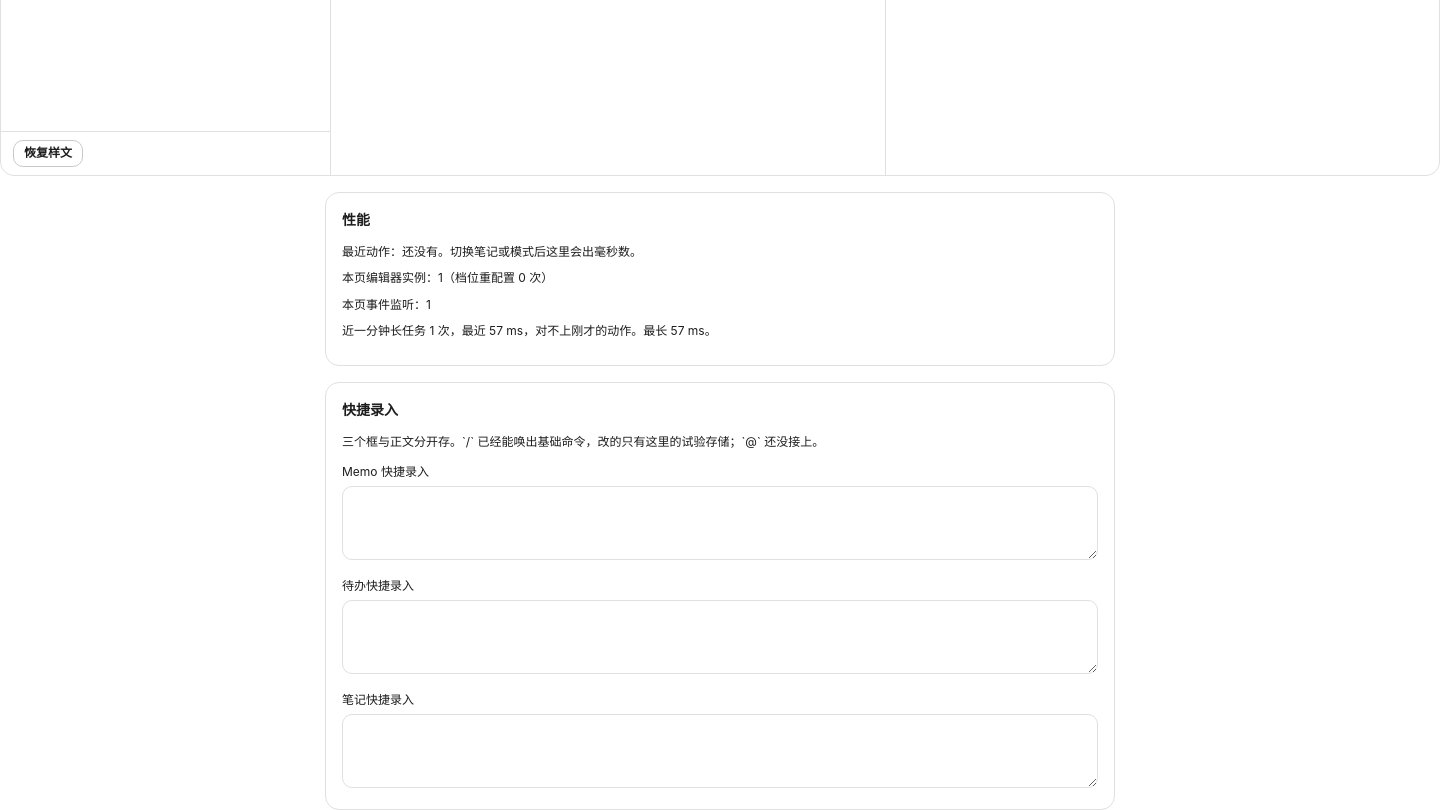
Test case: 编辑试验页 › 快捷框的 `/` 命令只改试验存储，不碰正式笔记、不发布
(page scrolled)
Type "/" into the text box labelled "Memo 快捷录入".
click(720, 523); type("/")  # box [342, 486, 1098, 560]
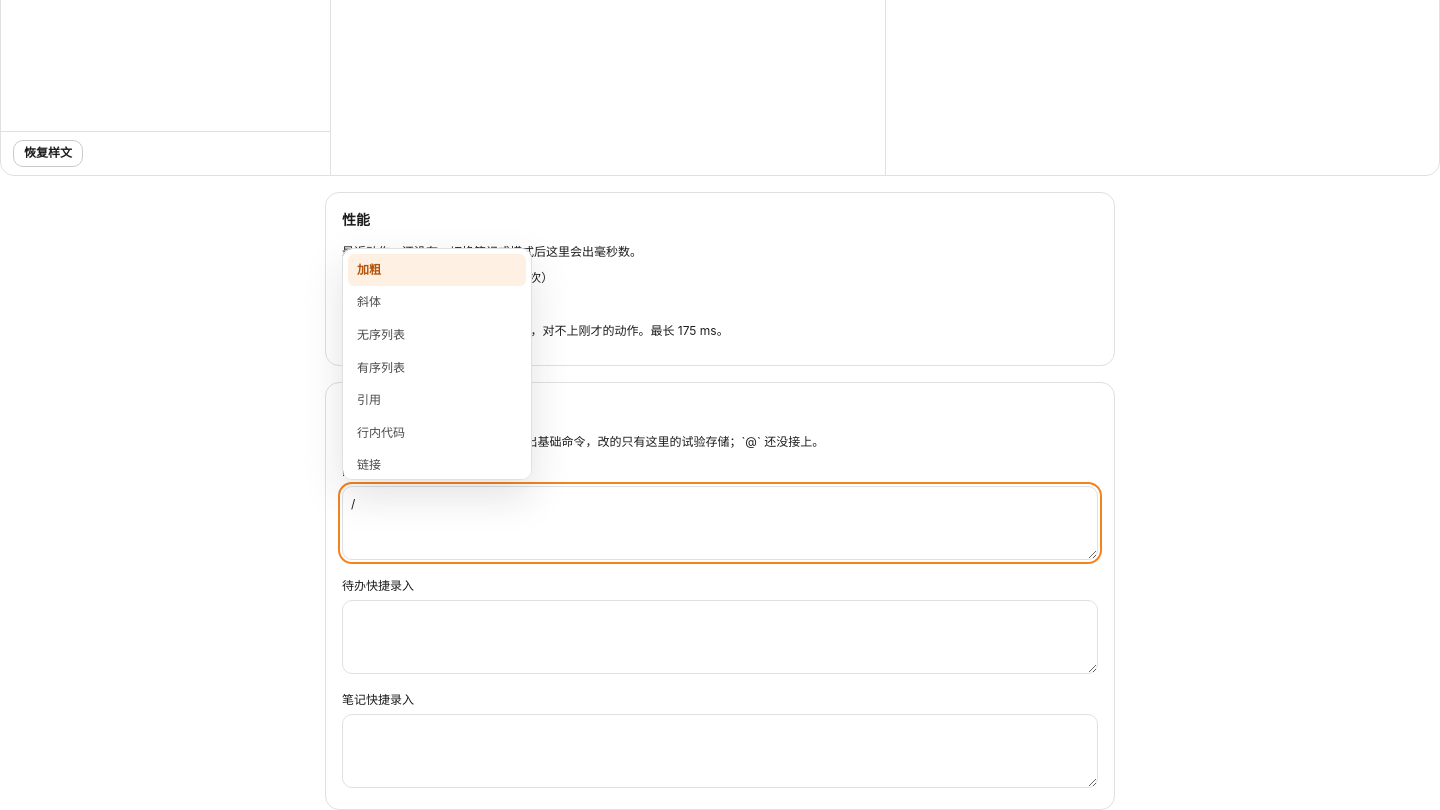
Expected: the option "加粗" is shown, [348, 254, 526, 286]
Type "加粗" into the text box labelled "Memo 快捷录入".
click(720, 523); type("加粗")  # box [342, 486, 1098, 560]
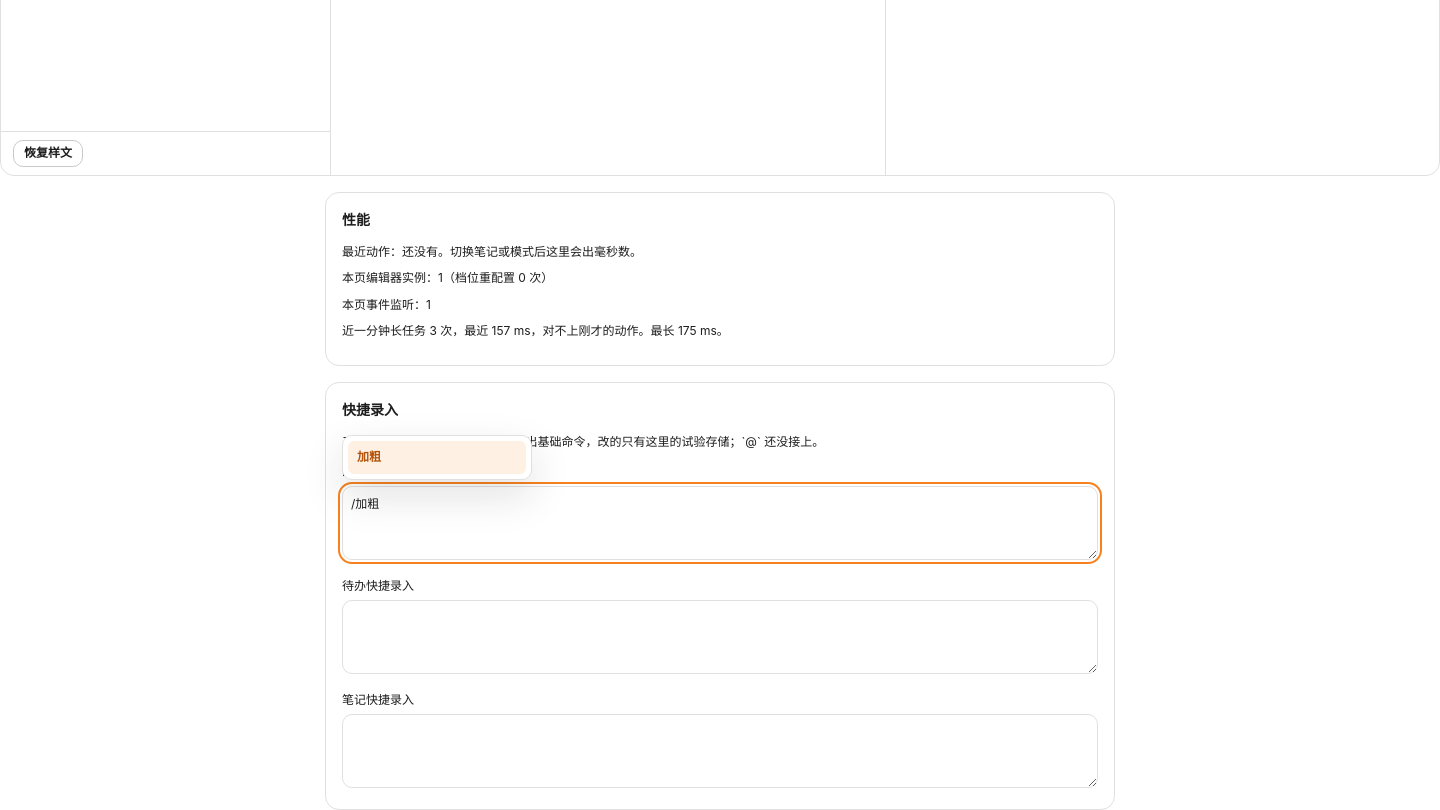
Expected: the option "加粗" is shown, [348, 441, 526, 474]
Press Enter
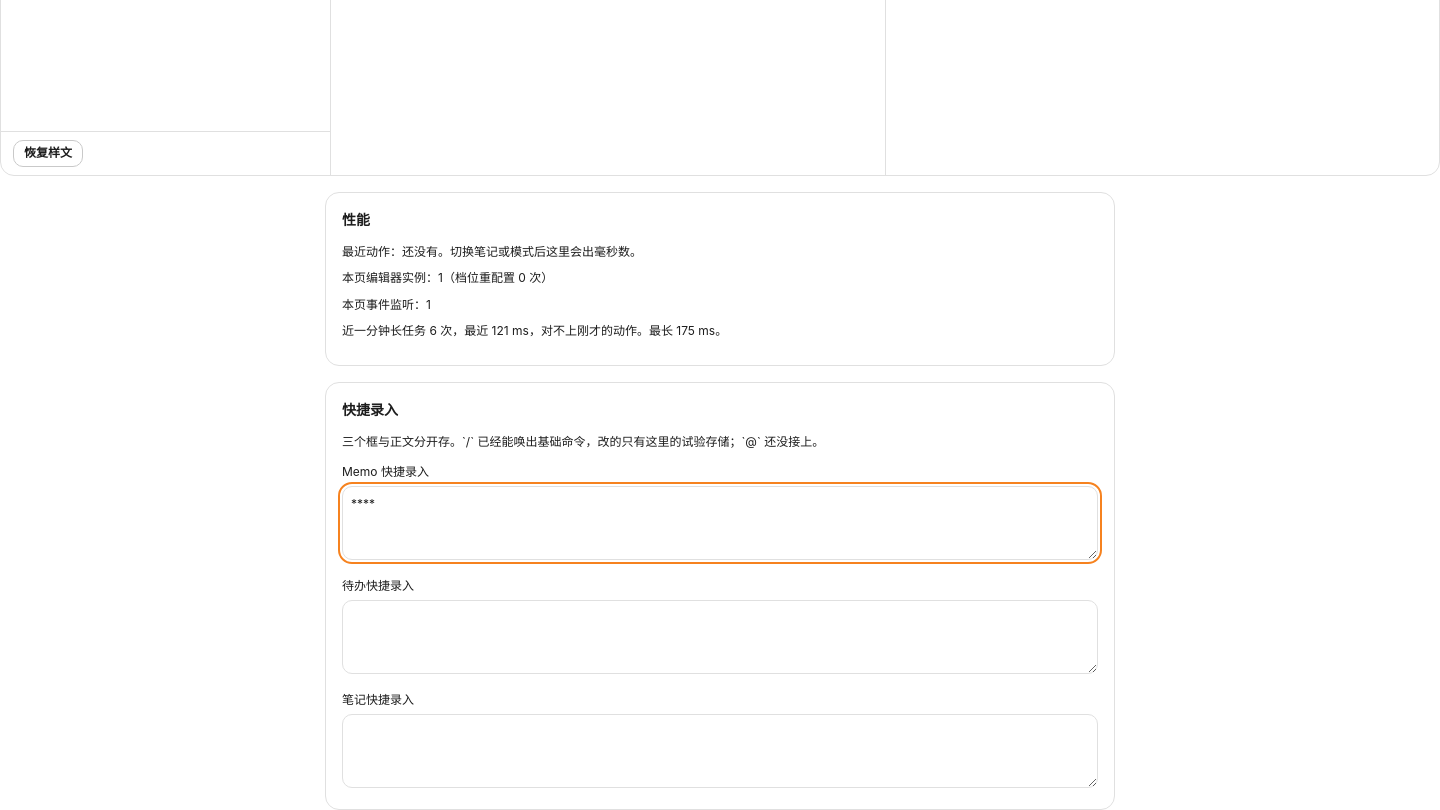
Expected: the text box labelled "Memo 快捷录入" holds "****", [342, 486, 1098, 560]
